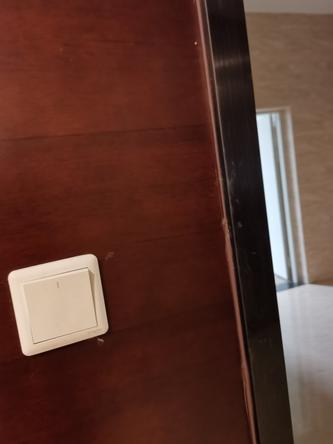switch: (16, 264, 108, 344)
